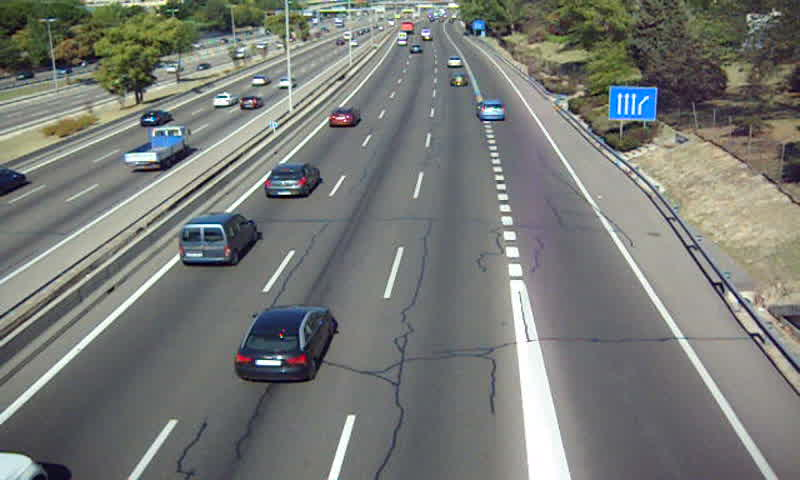car: (233, 305, 335, 382), (265, 164, 322, 196), (328, 108, 360, 129), (475, 98, 505, 120), (448, 73, 468, 87), (446, 56, 465, 67)
van: (178, 214, 257, 263)
